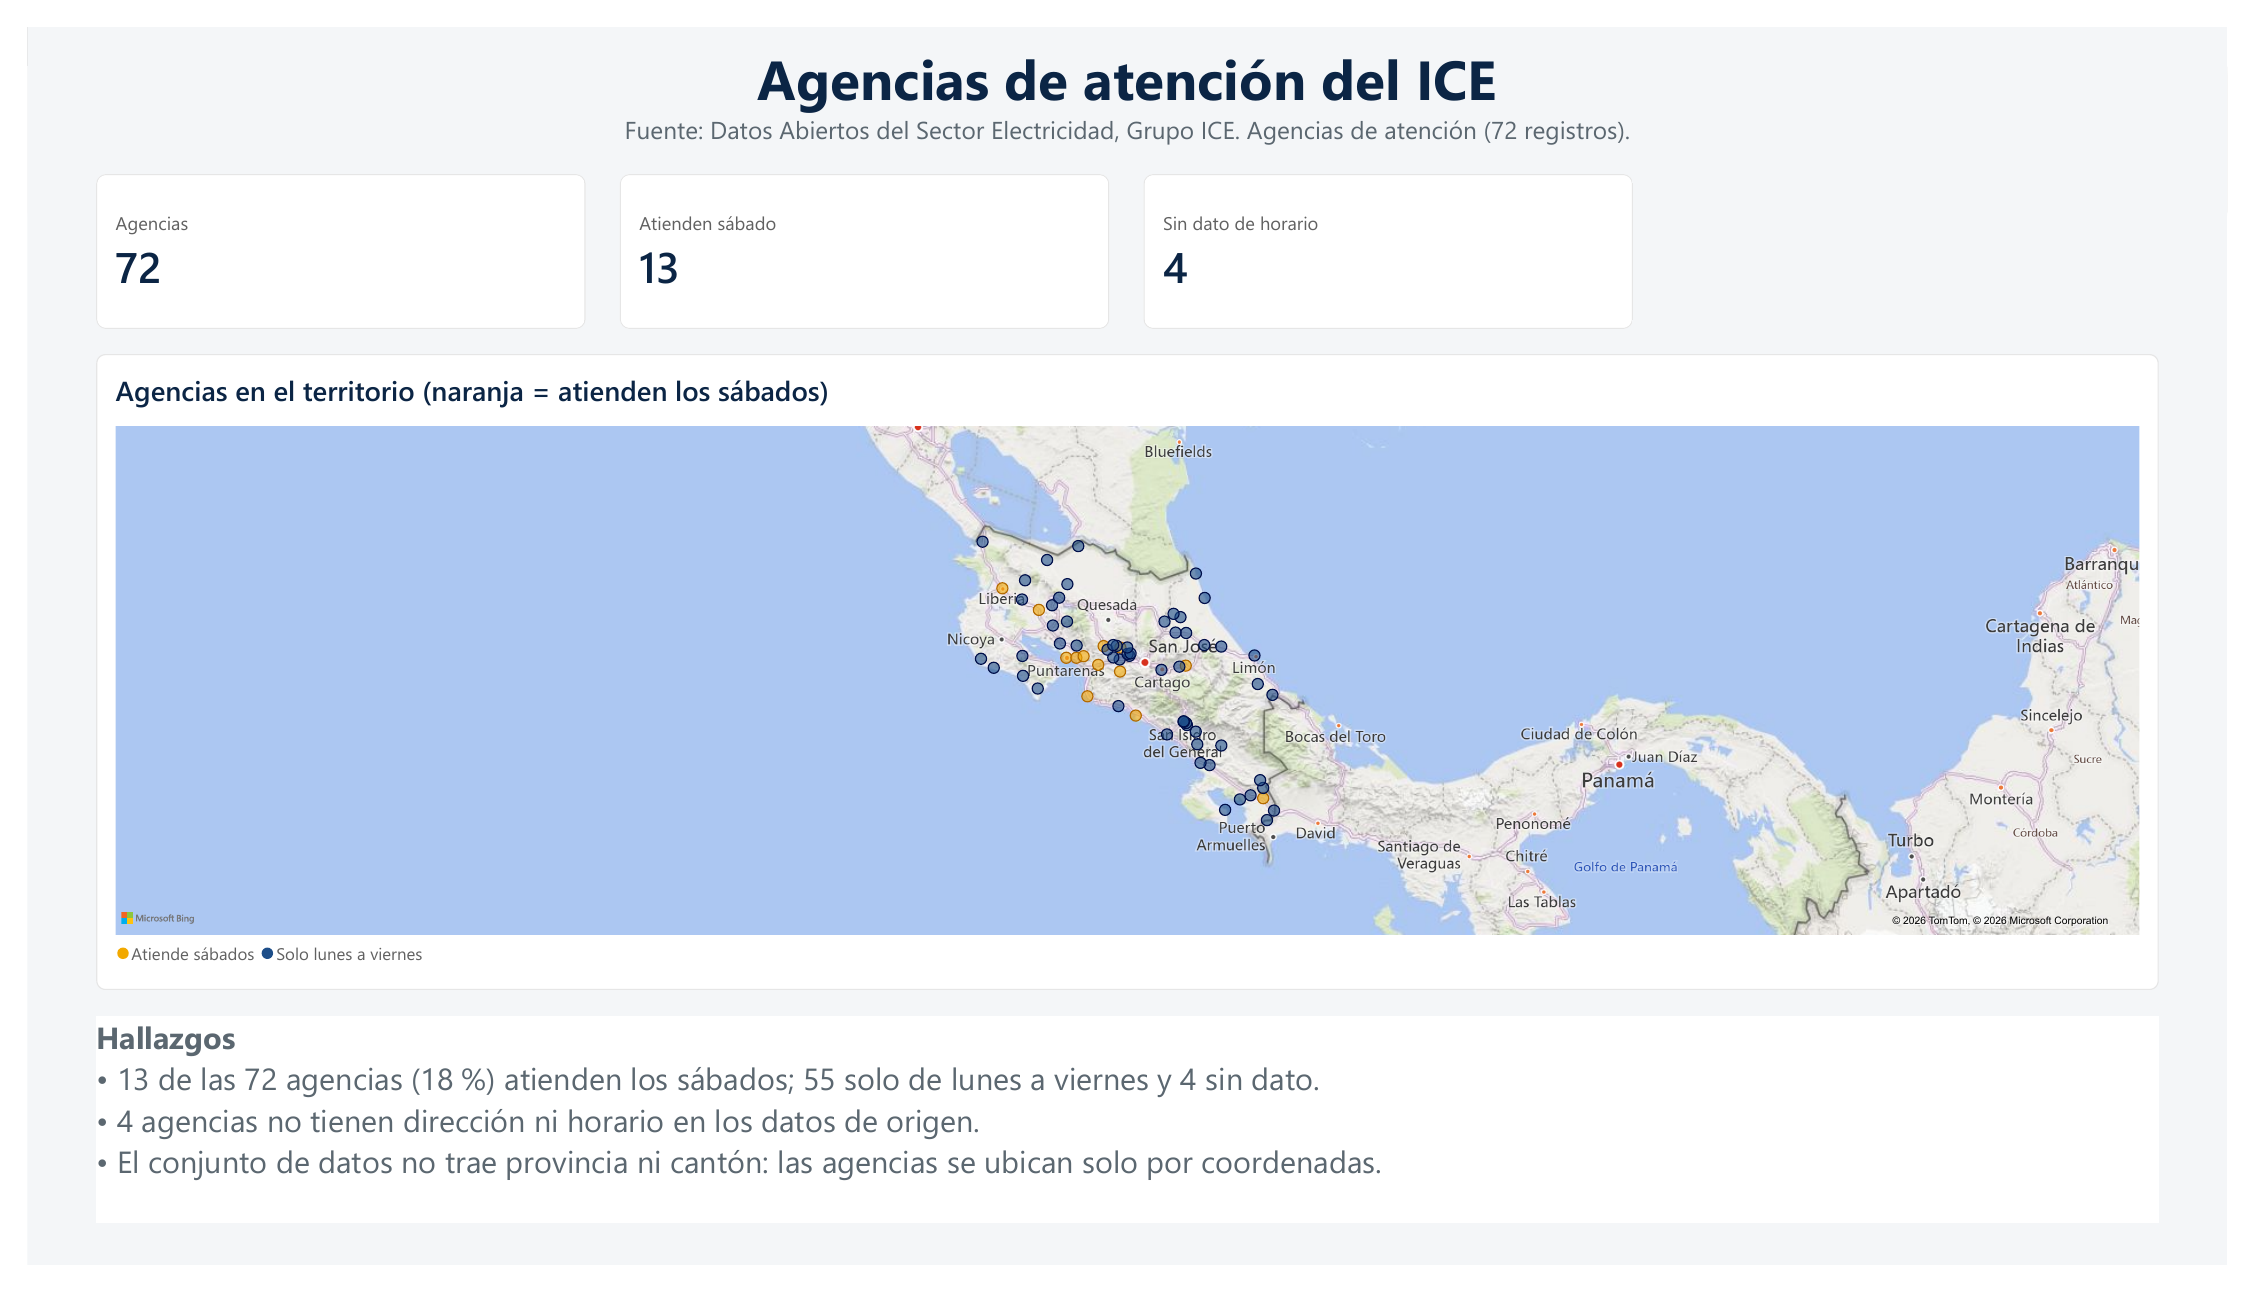

What the dashboard file says about the page in this screenshot:
{"tool":"powerbi","page":{"name":"Agencias","canvas":[1920,1080],"ordinal":3},"visuals":[{"type":"textbox","box":[60,12,1800,64],"z":6000},{"type":"textbox","box":[60,75,1800,36],"z":7000},{"type":"textbox","box":[60,863,1800,180],"z":8000},{"type":"cardVisual","fields":{"Data":["_Medidas.Sin dato de horario"]},"box":[974,128,427,135],"z":8001},{"type":"cardVisual","fields":{"Data":["_Medidas.Atienden sábado"]},"box":[517,128,427,135],"z":8002},{"type":"cardVisual","fields":{"Data":["_Medidas.Agencias"]},"box":[60,128,427,135],"z":8003},{"type":"map","title":"Agencias en el territorio (naranja = atienden los sábados)","fields":{"Series":["dim_agencias.Horario sábado"],"X":["dim_agencias.longitud"],"Y":["dim_agencias.latitud"]},"box":[60,285,1800,555],"z":8004}]}

Visuals, with their boxes in screenshot pixels (x1, y1, x2, y2), scaled from the page's 1920x1080 canvas onto the 2255x1293 screenshot:
textbox: box=[70, 14, 2185, 91]
textbox: box=[70, 90, 2185, 133]
textbox: box=[70, 1033, 2185, 1249]
cardVisual - _Medidas.Sin dato de horario: box=[1144, 153, 1645, 315]
cardVisual - _Medidas.Atienden sábado: box=[607, 153, 1109, 315]
cardVisual - _Medidas.Agencias: box=[70, 153, 572, 315]
"Agencias en el territorio (naranja = atienden los sábados)" map: box=[70, 341, 2185, 1006]
